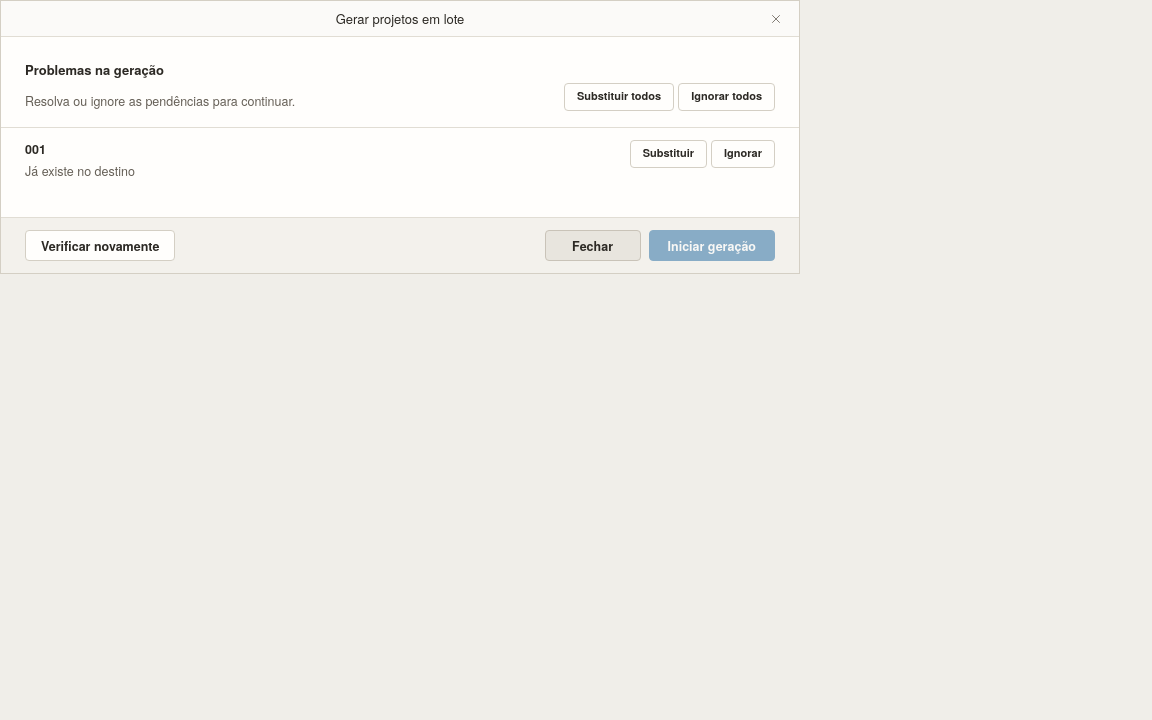
requires an explicit Continue after the last conflict decision
Click the button "Substituir".
click(668, 154)  # box x1=630 y1=140 x2=707 y2=168
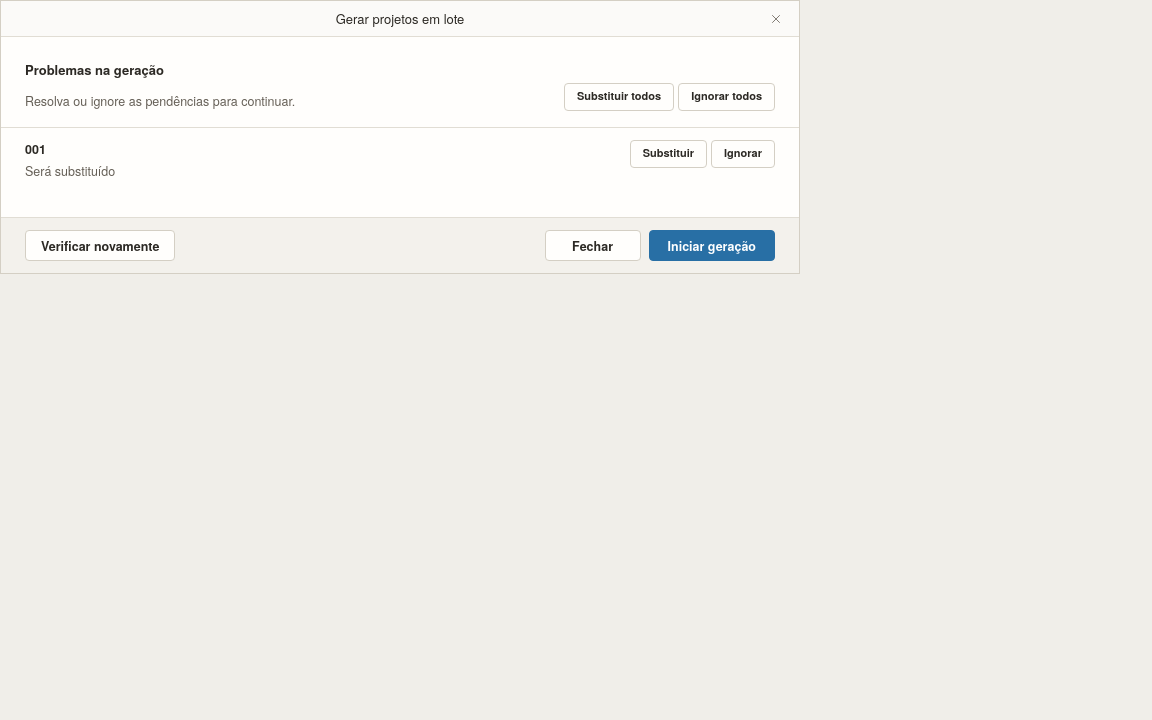
Expected: the button "Iniciar geração" is enabled
Click the button "Iniciar geração".
click(712, 246)  # box x1=649 y1=230 x2=775 y2=261
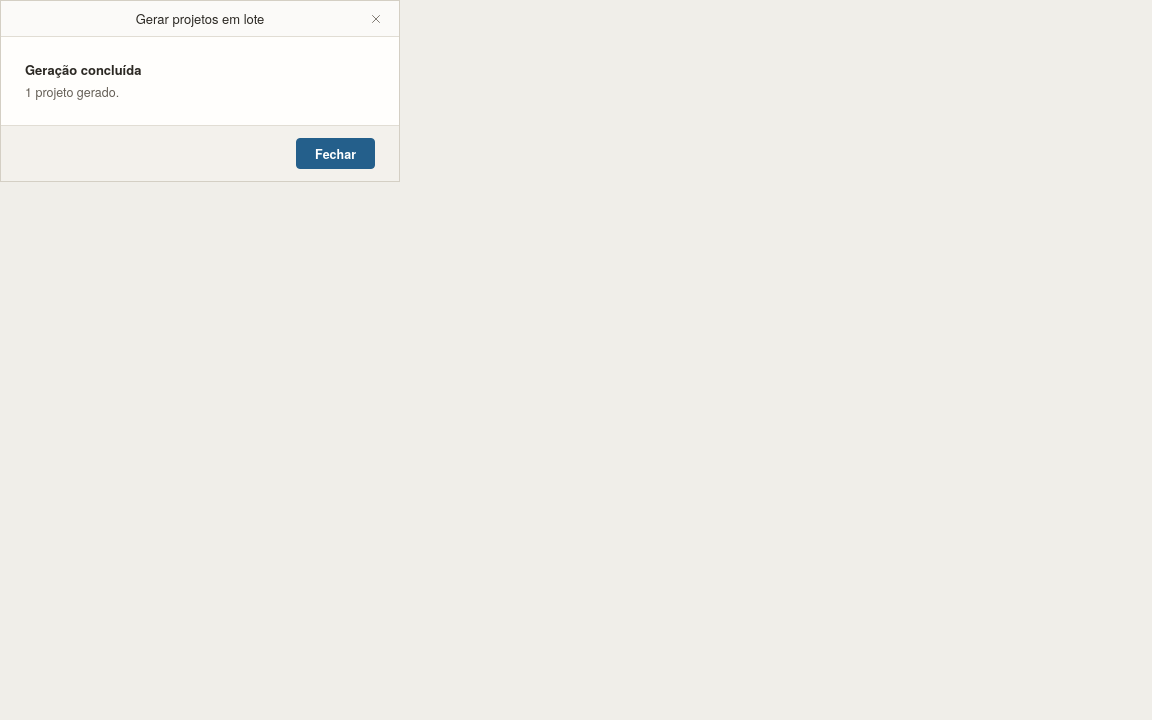
Expected: the heading "Geração concluída" is shown, x1=25 y1=60 x2=141 y2=79
